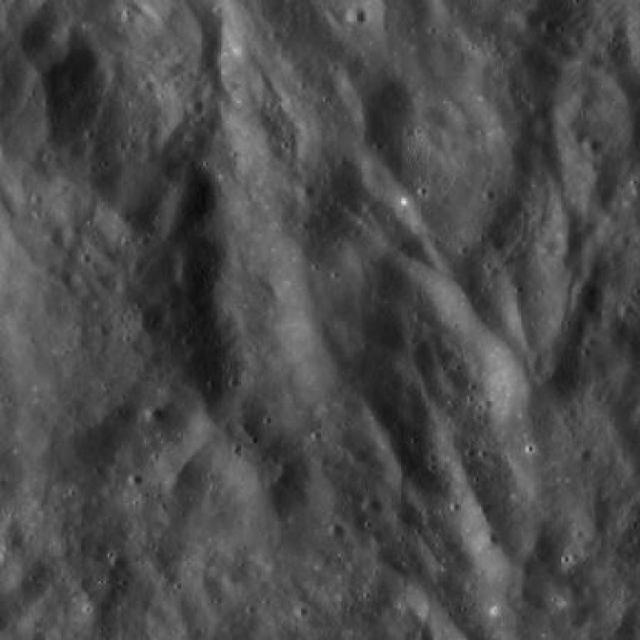crater: (346, 4, 366, 24), (583, 136, 603, 156), (294, 183, 314, 202), (146, 405, 166, 423), (362, 497, 380, 515), (187, 98, 204, 115), (126, 472, 142, 488), (138, 78, 154, 94), (328, 524, 344, 540)
